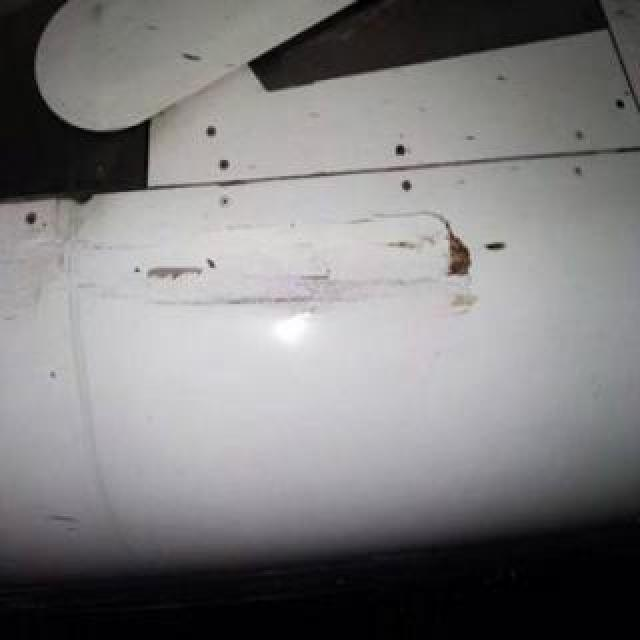crack: (336, 209, 474, 279), (146, 264, 208, 280), (284, 263, 336, 281)
